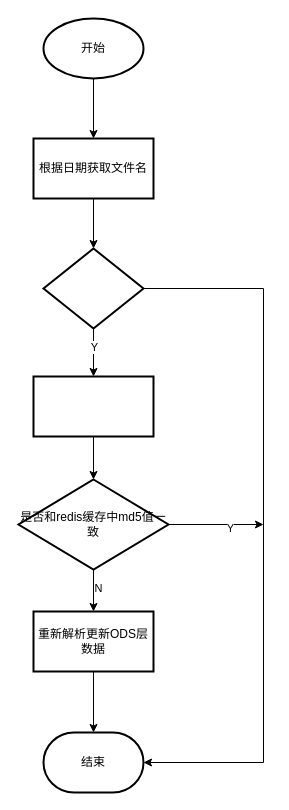
Some shapes in this 289 by 810 pixel diagram are drawn without their labels. Each missing label, with the centre of its shape:
"文件是否存在" belongs at pixel 93 288.
"获取文件的MD5" belongs at pixel 93 406.
